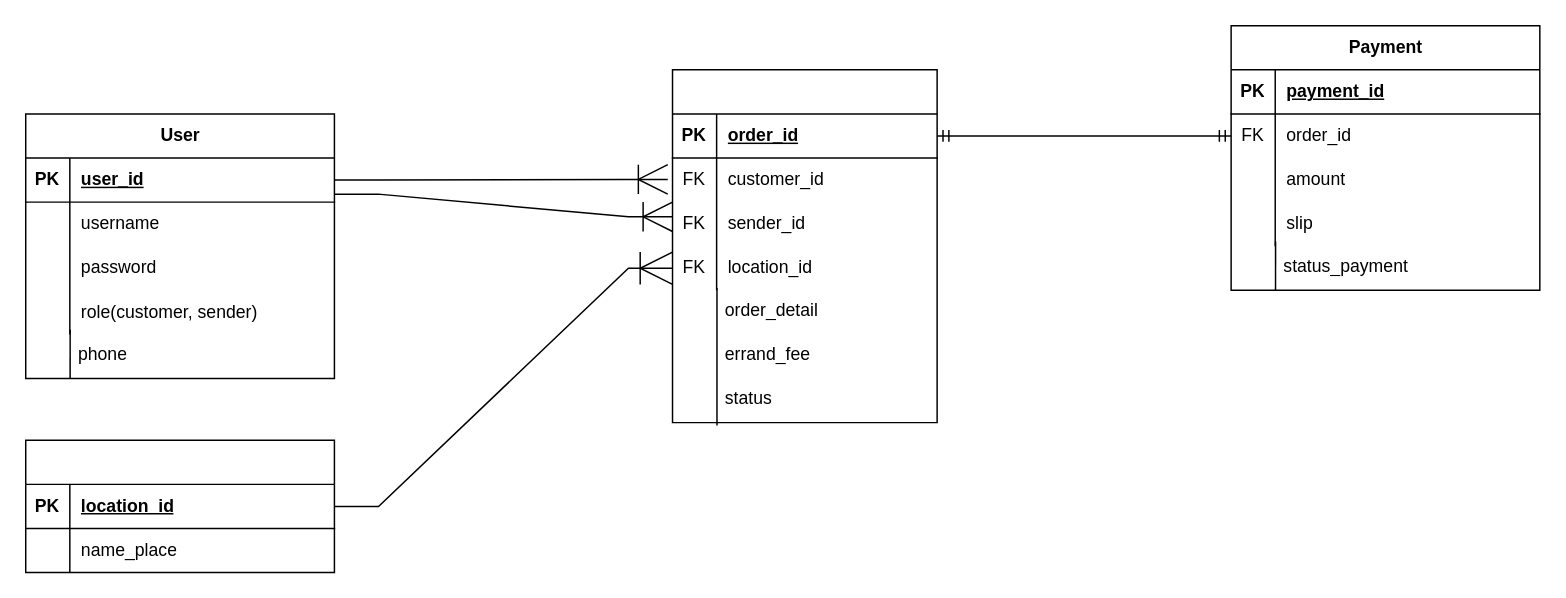
Some shapes in this 1566 by 598 pixel diagram are drawn without their labels. The shapes that lost their labels are listed below. From the top down, each one's box as (x1, y1, x2, y2) in pixels, then its label:
(671, 68, 937, 423): Orders
(24, 439, 334, 573): Locations
